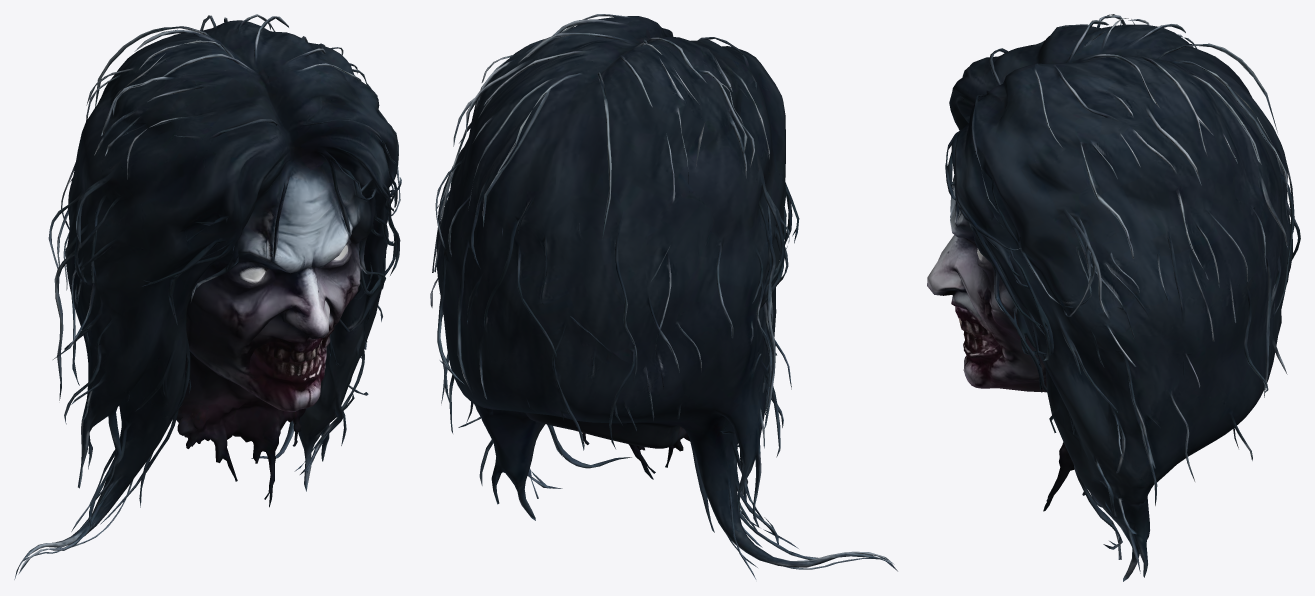
File: ghost_head.glb
The picture shows the model from 3 angles, left to right: view 1: azimuth 30°, elevation 25°; view 2: azimuth 150°, elevation 25°; view 3: azimuth 270°, elevation 25°; orthographic projection. The views are drawn at different scales.
Visible parts, largest first — view 1: tripo_node_bab43060-a1f2-477f-85c6-6d59c000e63a; view 2: tripo_node_bab43060-a1f2-477f-85c6-6d59c000e63a; view 3: tripo_node_bab43060-a1f2-477f-85c6-6d59c000e63a.
Part boxes in pixels (<box>): tripo_node_bab43060-a1f2-477f-85c6-6d59c000e63a: <box>14,14,401,579</box>; tripo_node_bab43060-a1f2-477f-85c6-6d59c000e63a: <box>430,14,897,579</box>; tripo_node_bab43060-a1f2-477f-85c6-6d59c000e63a: <box>927,14,1300,581</box>.
Size of the model in its own units: 0.8537 by 0.9686 by 0.6506.
1 material, 1 textured.
